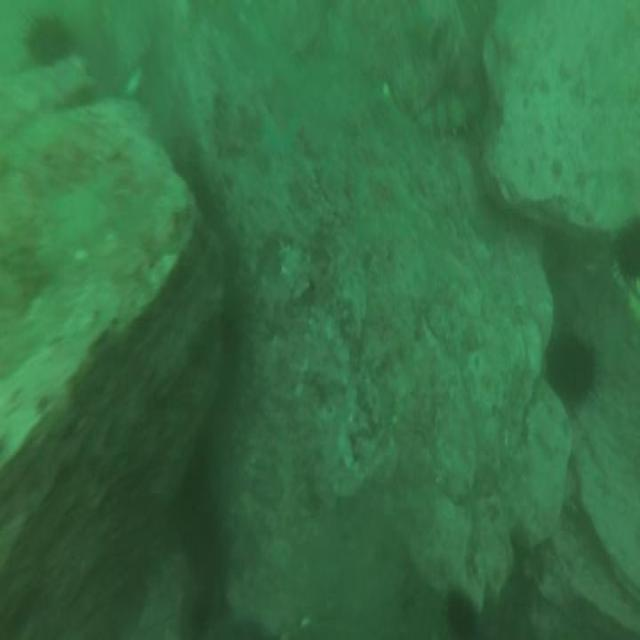echinus: (539, 324, 599, 411), (18, 8, 80, 71), (441, 584, 486, 640), (612, 208, 640, 292)
holothurian: (414, 79, 489, 137)
